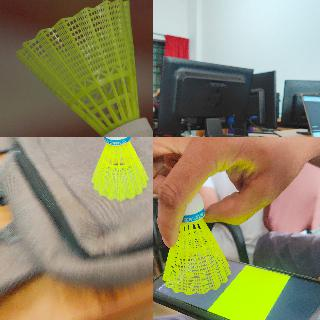shuttlecock: (15, 0, 152, 136), (163, 191, 231, 295), (91, 137, 150, 200)
